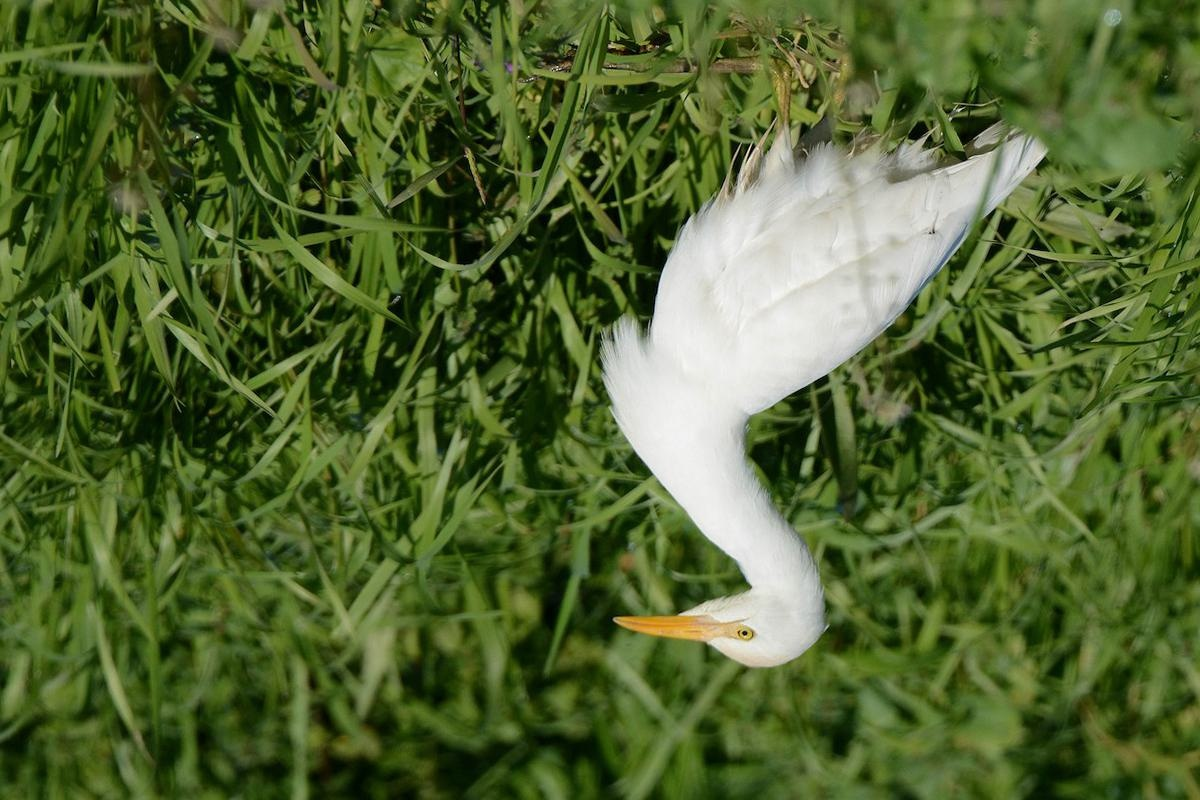egret: (614, 93, 1030, 687)
